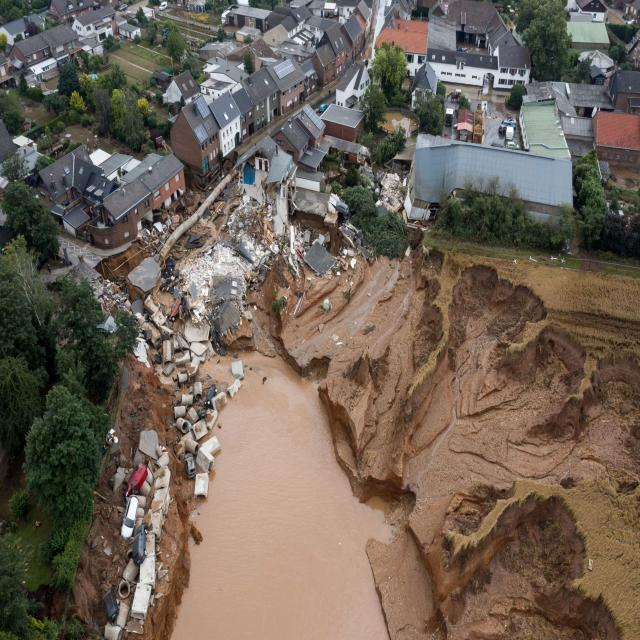flood: (172, 354, 390, 640)
house: (403, 138, 581, 208), (424, 1, 532, 92), (172, 94, 218, 171), (32, 145, 96, 199), (592, 106, 640, 164), (20, 28, 77, 76), (268, 55, 312, 116), (95, 180, 152, 225), (146, 150, 187, 210), (381, 16, 427, 68), (242, 66, 279, 124), (315, 106, 368, 146), (212, 92, 245, 152), (609, 64, 640, 117), (263, 8, 311, 42), (323, 27, 352, 71), (166, 69, 200, 106), (78, 11, 116, 42), (346, 17, 366, 49), (354, 0, 372, 22)
